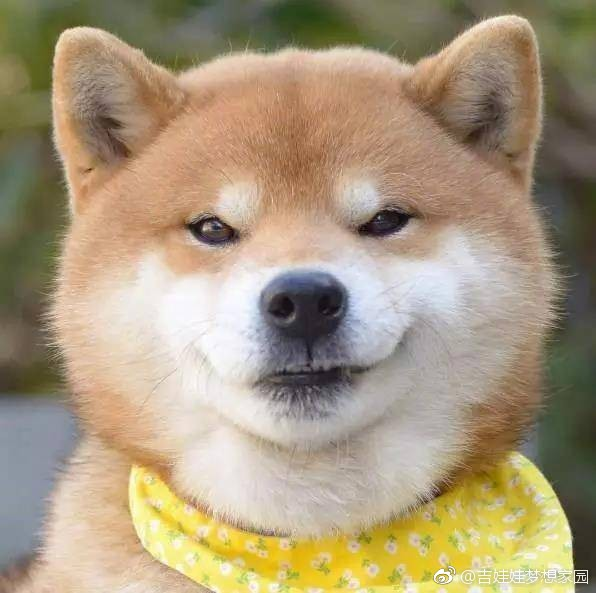dog: (14, 14, 579, 592)
